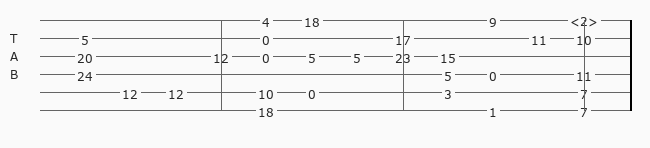0: (262, 50, 274, 63), (262, 32, 274, 45), (308, 86, 320, 99), (489, 68, 501, 81)
1: (489, 104, 501, 117)
10: (258, 86, 278, 99), (576, 32, 596, 45)
11: (531, 32, 551, 45), (576, 68, 596, 81)
12: (122, 86, 142, 99), (168, 86, 188, 99), (213, 50, 233, 63)
15: (440, 50, 460, 63)
17: (395, 32, 415, 45)
18: (258, 104, 278, 117), (304, 14, 324, 27)
20: (77, 50, 97, 63)
23: (395, 50, 415, 63)
24: (77, 68, 97, 81)
3: (444, 86, 456, 99)
4: (262, 14, 274, 27)
5: (81, 32, 93, 45), (308, 50, 320, 63), (353, 50, 365, 63), (444, 68, 456, 81)
7: (580, 86, 592, 99), (580, 104, 592, 117)
9: (489, 14, 501, 27)
harmonic: (570, 13, 602, 27)
